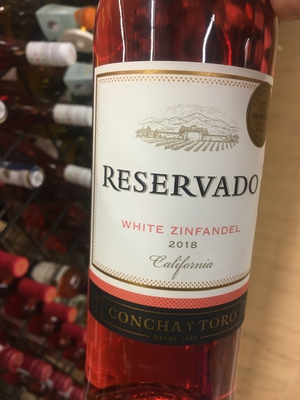reservado white zinfandel: (83, 14, 274, 400)
